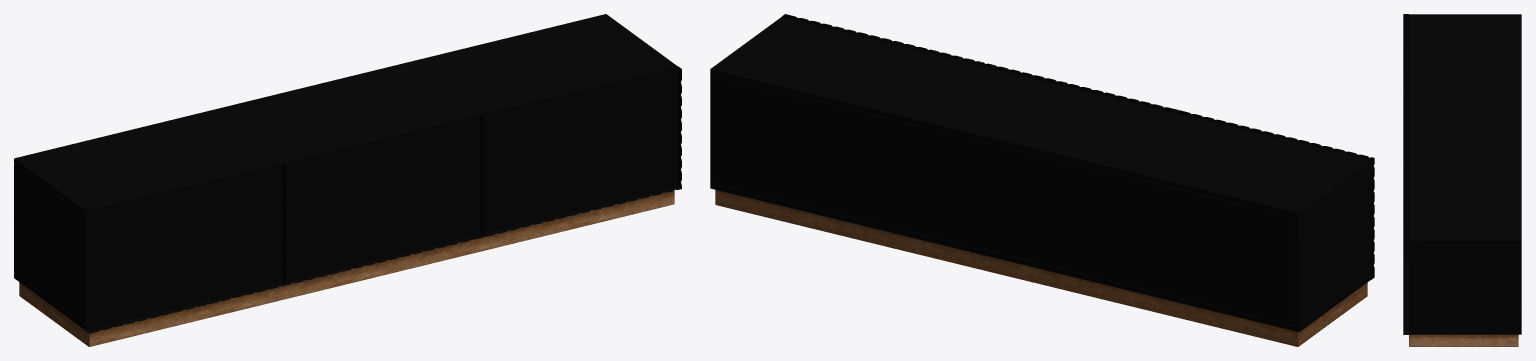
File: Shelf_SideShelf2_1.9x0.4x0.4.glb
3 views of the same model, side by side, from view 1: azimuth 30°, elevation 25°; view 2: azimuth 150°, elevation 25°; view 3: azimuth 270°, elevation 25° (orthographic). The views are drawn at different scales.
Visible parts, largest first — view 1: Side_display_shelf_Baked; view 2: Side_display_shelf_Baked; view 3: Side_display_shelf_Baked.
Part boxes in pixels (box(x1,y1,x2,y2)): Side_display_shelf_Baked: box(14, 14, 681, 346); Side_display_shelf_Baked: box(710, 14, 1374, 346); Side_display_shelf_Baked: box(1403, 14, 1521, 346).
Size of the model in its own units: 1.83 by 0.4052 by 0.4042.
1 material, 1 textured.
